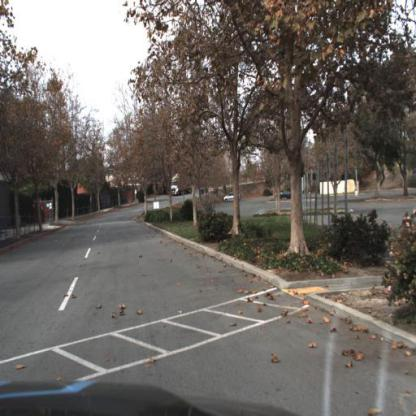car: (274, 187, 296, 203), (278, 188, 296, 202), (224, 193, 242, 205)
truck: (171, 171, 197, 198)
